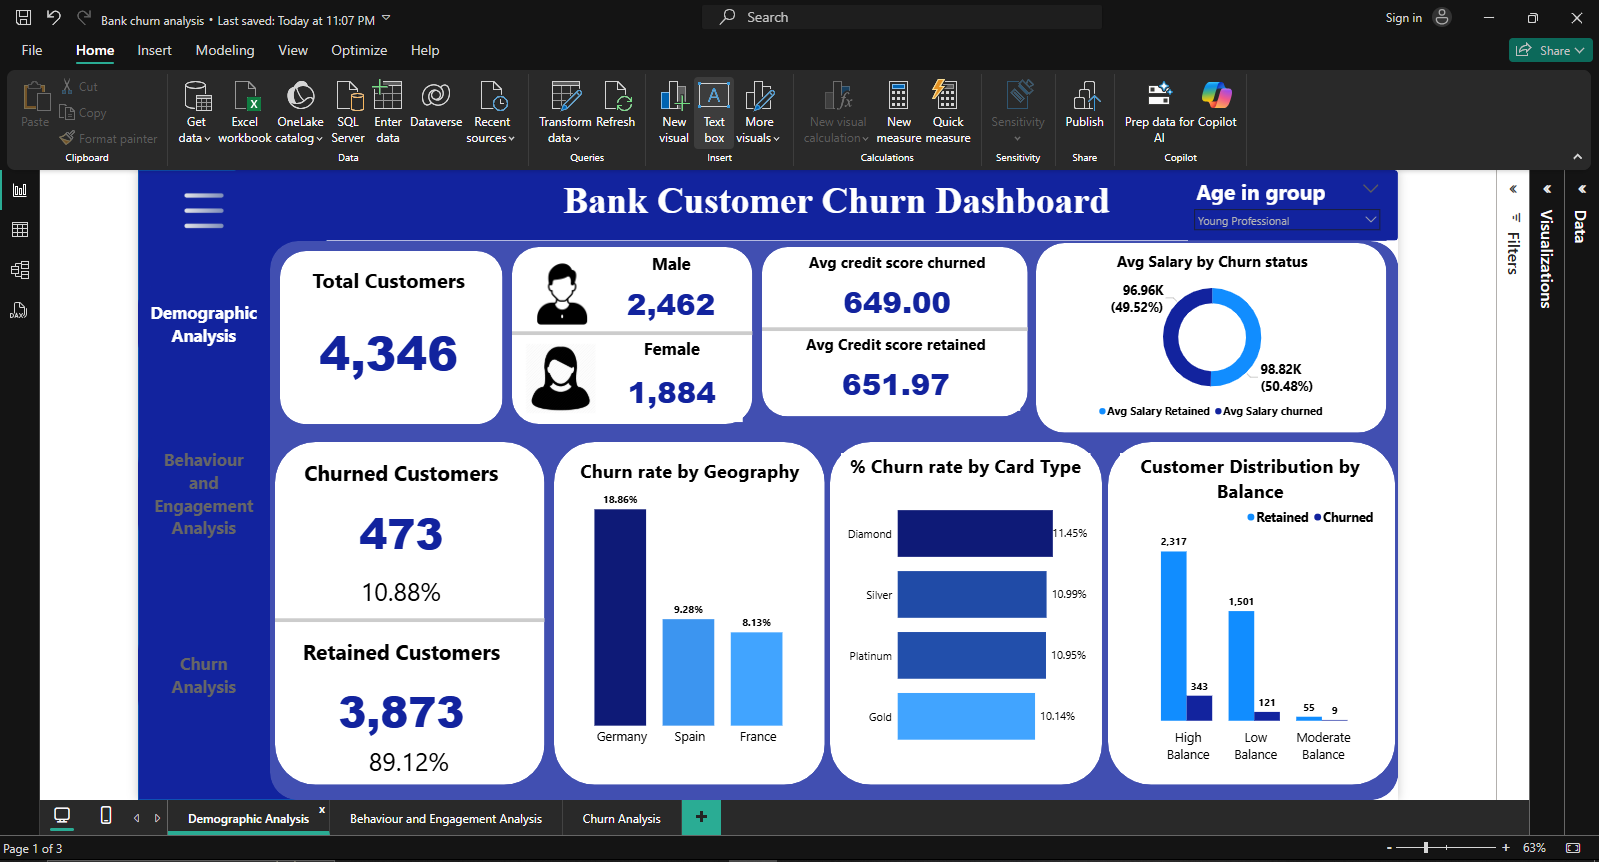

This screenshot's page, from the dashboard's own definition file:
{"tool":"powerbi","page":{"name":"Demographic Analysis","canvas":[2000,1000],"ordinal":0},"visuals":[{"type":"shape","box":[0,0,299.2,1000],"z":0},{"type":"shape","box":[208.8,112.4,1791.2,887.6],"z":1000},{"type":"shape","box":[150.6,0,1849.4,112.4],"z":2000},{"type":"textbox","box":[375.5,10,1465.9,90.4],"z":3000},{"type":"image","box":[50.2,28.1,108.4,72.3],"z":4000},{"type":"actionButton","box":[0,182.7,208.8,122.5],"z":5000},{"type":"actionButton","box":[0,417.7,208.8,192.8],"z":6000},{"type":"actionButton","box":[0,722.9,208.8,158.6],"z":7000},{"type":"shape","box":[1540.2,431.7,455.8,544.2],"z":8000},{"type":"shape","box":[1098.3,431.7,431.7,544.2],"z":9000},{"type":"shape","box":[660.6,431.7,429.7,544.2],"z":10000},{"type":"shape","box":[594.4,122.5,381.5,281.1],"z":11000},{"type":"shape","box":[216.9,431.7,427.7,544.2],"z":12000},{"type":"shape","box":[224.9,128.5,353.4,275.1],"z":13000},{"type":"shape","box":[1425.7,116.5,556.2,301.2],"z":14000},{"type":"card","title":"Total Customers","fields":{"Values":["All Measures.Total Customers"]},"box":[241,152.6,313.3,222.9],"z":15000},{"type":"card","title":"Male","fields":{"Values":["All Measures.Total male customers"]},"box":[734.9,130.5,222.9,124.5],"z":16000},{"type":"image","box":[610.4,142.6,124.5,108.4],"z":17000},{"type":"shape","box":[990,122.5,421.7,269.1],"z":18000},{"type":"card","title":"Female","fields":{"Values":["All Measures.Female Customers"]},"box":[734.9,265.1,224.9,134.5],"z":19000},{"type":"image","box":[608.4,269.1,126.5,122.5],"z":20000},{"type":"card","title":"Avg credit score churned","fields":{"Values":["All Measures.Avg Credit churned"]},"box":[1026.1,130.5,359.4,122.5],"z":21000},{"type":"card","title":"Avg Credit score retained","fields":{"Values":["All Measures.Avg Credit score retained"]},"box":[1006,261,393.6,122.5],"z":22000},{"type":"clusteredColumnChart","title":"Churn rate by Geography","fields":{"Category":["Customer_Churn_Records (2).Geography"],"Y":["All Measures.Churn rate"]},"box":[676.7,457.8,399.6,465.9],"z":23000},{"type":"clusteredBarChart","fields":{"Category":["Customer_Churn_Records (2).Card Type"],"Y":["All Measures.Churn rate"]},"box":[1116.4,449.8,395.6,502],"z":24000},{"type":"shape","box":[594.4,204.8,381.5,108.4],"z":25000},{"type":"shape","box":[990,198.8,421.7,108.4],"z":26000},{"type":"slicer","fields":{"Values":["Customer_Churn_Records (2).Age in group"]},"box":[1666.7,6,315.3,106.4],"z":27000},{"type":"donutChart","title":"Avg Salary by Churn status","fields":{"Y":["All Measures.Avg Salary Retained","All Measures.Avg Salary churned"]},"box":[1453.8,128.5,502,275.1],"z":28000},{"type":"card","title":"Churned Customers","fields":{"Values":["All Measures.Churned"]},"box":[241,457.8,353.4,184.7],"z":29000},{"type":"card","title":"Retained Customers","fields":{"Values":["All Measures.Retained"]},"box":[241,741,353.4,182.7],"z":30000},{"type":"card","fields":{"Values":["All Measures.% Churn rate"]},"box":[337.3,632.5,158.6,72.3],"z":31000},{"type":"card","fields":{"Values":["All Measures.% Retained rate"]},"box":[351.4,901.6,158.6,72.3],"z":32000},{"type":"shape","box":[216.9,660.6,427.7,108.4],"z":33000},{"type":"clusteredColumnChart","title":"Customer Distribution by Balance","fields":{"Category":["Customer_Churn_Records (2).Balance Range"],"Y":["All Measures.Retained","All Measures.Churned"]},"box":[1558.2,449.8,413.7,498],"z":34000}]}

Visuals, with their boxes on the page's 2000x1000 design canvas (x1, y1, x2, y2). These are canvas units, not pixel positions in the 1599x862 screenshot, which may show the page scaled, cropped or inside an application window:
shape: pyautogui.locateOnScreen(0, 0, 299, 1000)
shape: pyautogui.locateOnScreen(209, 112, 2000, 1000)
shape: pyautogui.locateOnScreen(151, 0, 2000, 112)
textbox: pyautogui.locateOnScreen(376, 10, 1841, 100)
image: pyautogui.locateOnScreen(50, 28, 159, 100)
actionButton: pyautogui.locateOnScreen(0, 183, 209, 305)
actionButton: pyautogui.locateOnScreen(0, 418, 209, 610)
actionButton: pyautogui.locateOnScreen(0, 723, 209, 882)
shape: pyautogui.locateOnScreen(1540, 432, 1996, 976)
shape: pyautogui.locateOnScreen(1098, 432, 1530, 976)
shape: pyautogui.locateOnScreen(661, 432, 1090, 976)
shape: pyautogui.locateOnScreen(594, 122, 976, 404)
shape: pyautogui.locateOnScreen(217, 432, 645, 976)
shape: pyautogui.locateOnScreen(225, 128, 578, 404)
shape: pyautogui.locateOnScreen(1426, 116, 1982, 418)
"Total Customers" card: pyautogui.locateOnScreen(241, 153, 554, 376)
"Male" card: pyautogui.locateOnScreen(735, 130, 958, 255)
image: pyautogui.locateOnScreen(610, 143, 735, 251)
shape: pyautogui.locateOnScreen(990, 122, 1412, 392)
"Female" card: pyautogui.locateOnScreen(735, 265, 960, 400)
image: pyautogui.locateOnScreen(608, 269, 735, 392)
"Avg credit score churned" card: pyautogui.locateOnScreen(1026, 130, 1386, 253)
"Avg Credit score retained" card: pyautogui.locateOnScreen(1006, 261, 1400, 384)
"Churn rate by Geography" clusteredColumnChart: pyautogui.locateOnScreen(677, 458, 1076, 924)
clusteredBarChart - Customer_Churn_Records (2).Card Type x All Measures.Churn rate: pyautogui.locateOnScreen(1116, 450, 1512, 952)
shape: pyautogui.locateOnScreen(594, 205, 976, 313)
shape: pyautogui.locateOnScreen(990, 199, 1412, 307)
slicer - Customer_Churn_Records (2).Age in group: pyautogui.locateOnScreen(1667, 6, 1982, 112)
"Avg Salary by Churn status" donutChart: pyautogui.locateOnScreen(1454, 128, 1956, 404)
"Churned Customers" card: pyautogui.locateOnScreen(241, 458, 594, 642)
"Retained Customers" card: pyautogui.locateOnScreen(241, 741, 594, 924)
card - All Measures.% Churn rate: pyautogui.locateOnScreen(337, 632, 496, 705)
card - All Measures.% Retained rate: pyautogui.locateOnScreen(351, 902, 510, 974)
shape: pyautogui.locateOnScreen(217, 661, 645, 769)
"Customer Distribution by Balance" clusteredColumnChart: pyautogui.locateOnScreen(1558, 450, 1972, 948)
